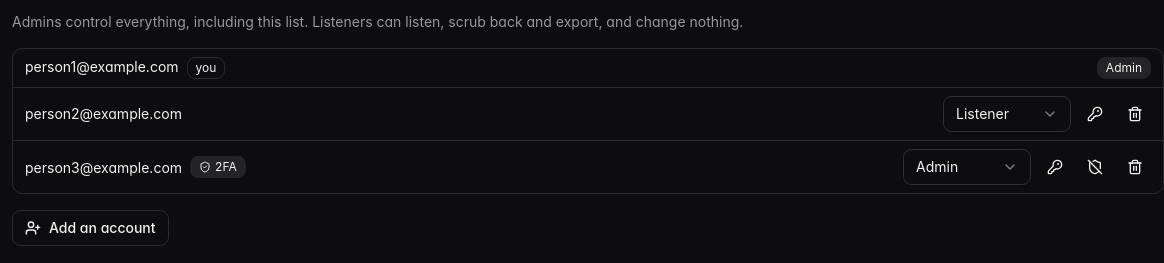
Test: the access card with accounts › changing a role › takes the account out of the draft when its old role is picked again
Expected: the text "person2@example.com" is shown, 25,105 -> 182,122
Click the dropdown labelled "Listener" at (1007, 114), box 943,96 -> 1071,132
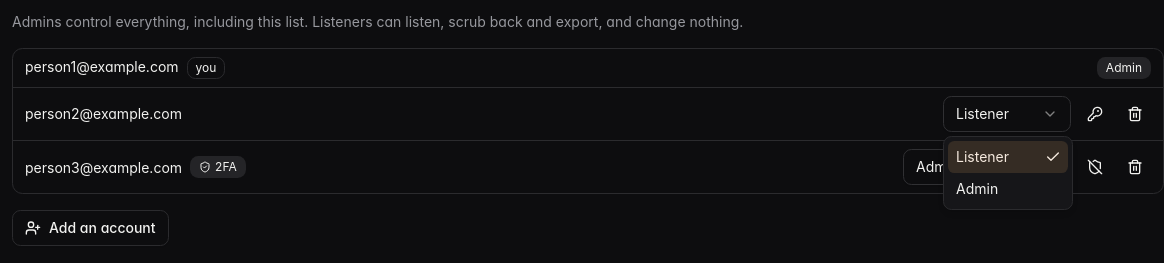
Click the option "Admin" at (977, 188), box 956,180 -> 998,197
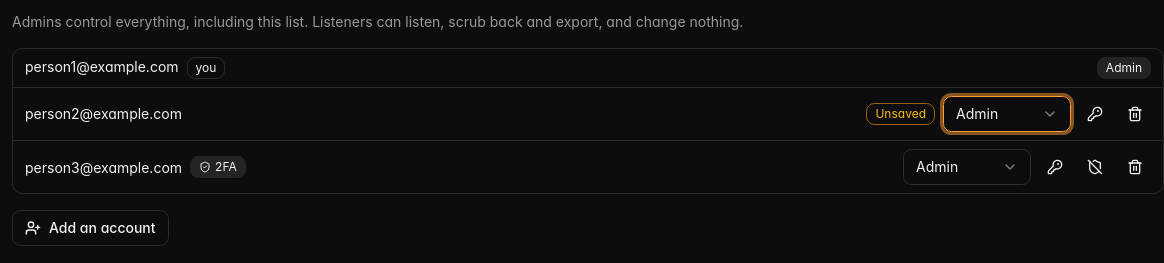
Click the dropdown labelled "Admin" in the row of "person2@example.com" at (1007, 114), box 943,96 -> 1071,132
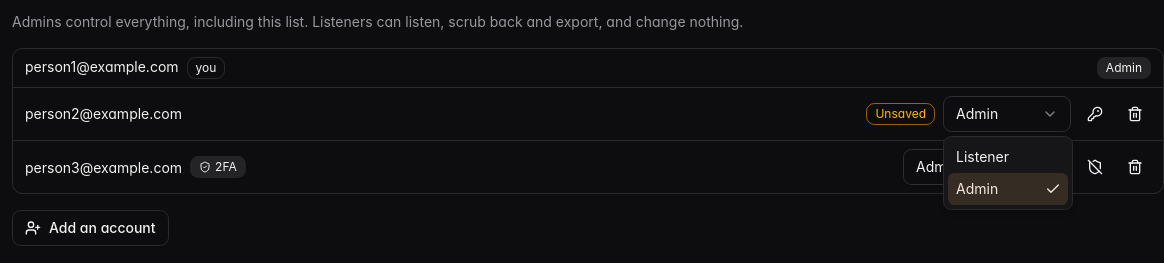
Click the option "Listener" at (982, 156), box 956,148 -> 1009,165
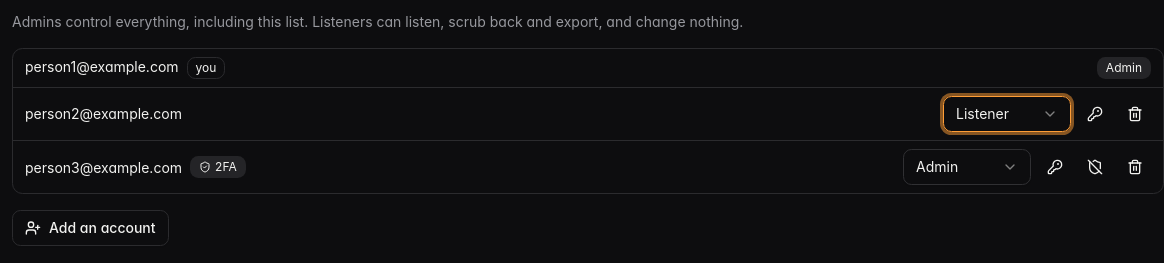
Expected: the text "Unsaved" is gone
